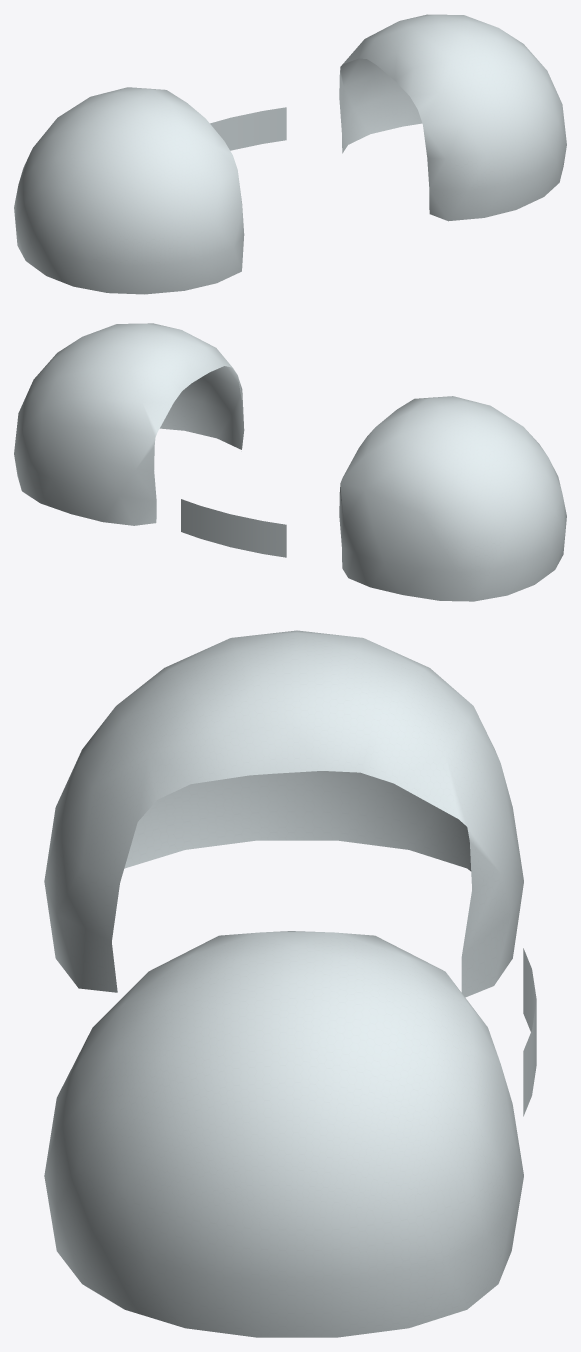
The model's file is Estructura_Vidrio.fbx.
3 views of the same model, one above another, from view 1: azimuth 30°, elevation 25°; view 2: azimuth 150°, elevation 25°; view 3: azimuth 270°, elevation 25° (orthographic). The views are drawn at different scales.
Visible parts, largest first — view 1: Vidrio_Cupula_low; view 2: Vidrio_Cupula_low; view 3: Vidrio_Cupula_low.
Part boxes in pixels (box(x1,y1,x2,y2)): Vidrio_Cupula_low: box(14, 14, 566, 294); Vidrio_Cupula_low: box(14, 323, 566, 601); Vidrio_Cupula_low: box(44, 630, 536, 1337).
Bounding box in the file's own units: 3672 × 980 × 1504.
